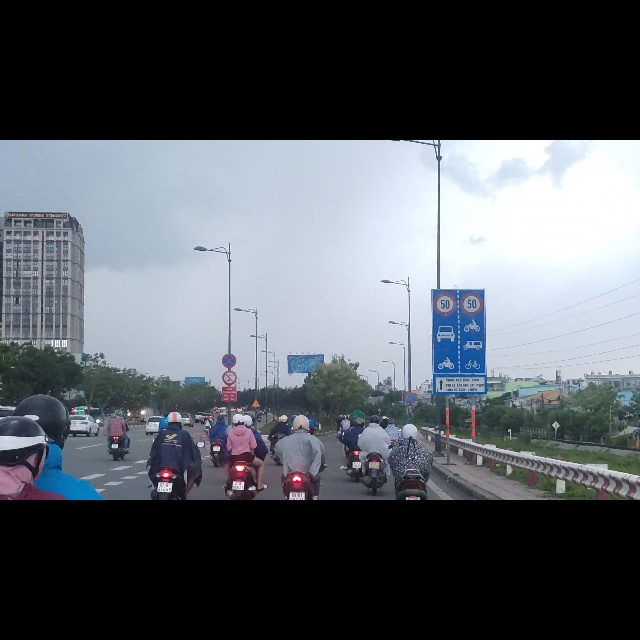bien_cam: (432, 312, 486, 415), (459, 266, 485, 311), (432, 267, 457, 313), (222, 380, 237, 406), (223, 409, 237, 436), (405, 447, 417, 469), (252, 459, 260, 475)
